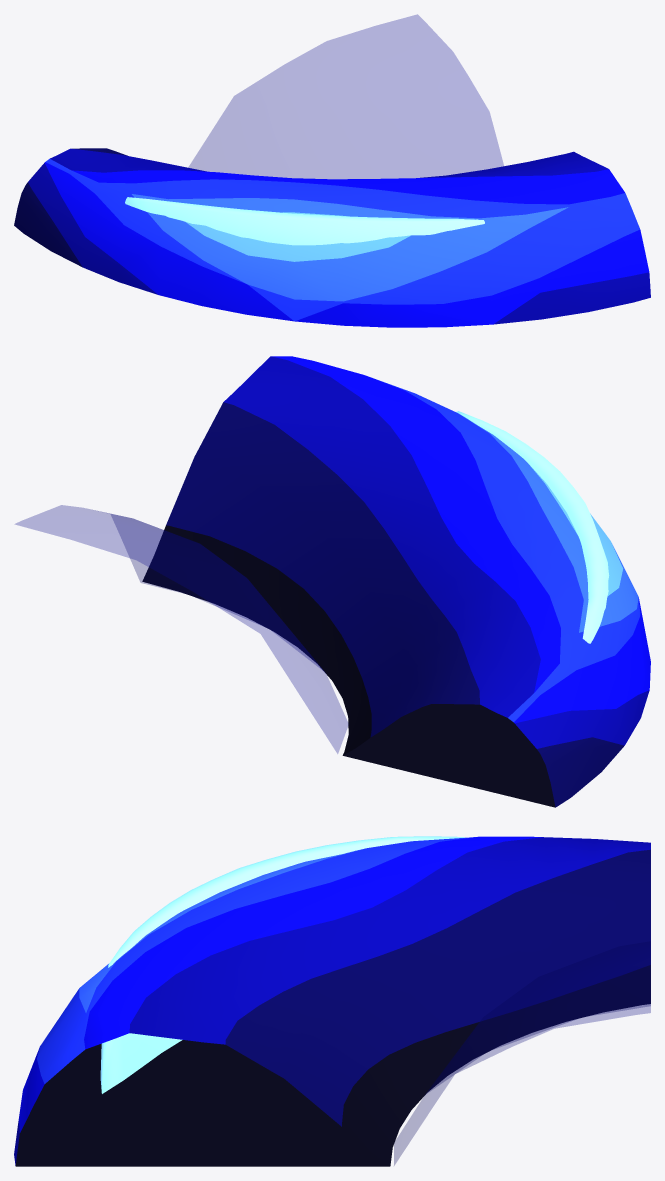
File: shot_charge_258.glb
The picture shows the model from 3 angles, top to bottom: view 1: azimuth 30°, elevation 25°; view 2: azimuth 150°, elevation 25°; view 3: azimuth 270°, elevation 25°; orthographic projection. The views are drawn at different scales.
Parts seen in each view (by area): view 1: charge_bubble_ring_shot_charge_258, charge_bubble_cap_shot_charge_258, charge_bubble_core_shot_charge_258; view 2: charge_bubble_ring_shot_charge_258, charge_bubble_cap_shot_charge_258, charge_bubble_core_shot_charge_258; view 3: charge_bubble_ring_shot_charge_258, charge_bubble_cap_shot_charge_258, charge_bubble_core_shot_charge_258.
Part boxes in pixels (left/top/right/bottom): charge_bubble_ring_shot_charge_258: left=14, top=148, right=650, bottom=327; charge_bubble_cap_shot_charge_258: left=188, top=14, right=503, bottom=178; charge_bubble_core_shot_charge_258: left=125, top=197, right=484, bottom=245; charge_bubble_ring_shot_charge_258: left=142, top=356, right=650, bottom=807; charge_bubble_cap_shot_charge_258: left=15, top=505, right=348, bottom=753; charge_bubble_core_shot_charge_258: left=456, top=411, right=609, bottom=643; charge_bubble_ring_shot_charge_258: left=14, top=836, right=650, bottom=1166; charge_bubble_cap_shot_charge_258: left=394, top=941, right=650, bottom=1165; charge_bubble_core_shot_charge_258: left=100, top=836, right=464, bottom=1093.
Size of the model in its own units: 11 by 2.93 by 11.
